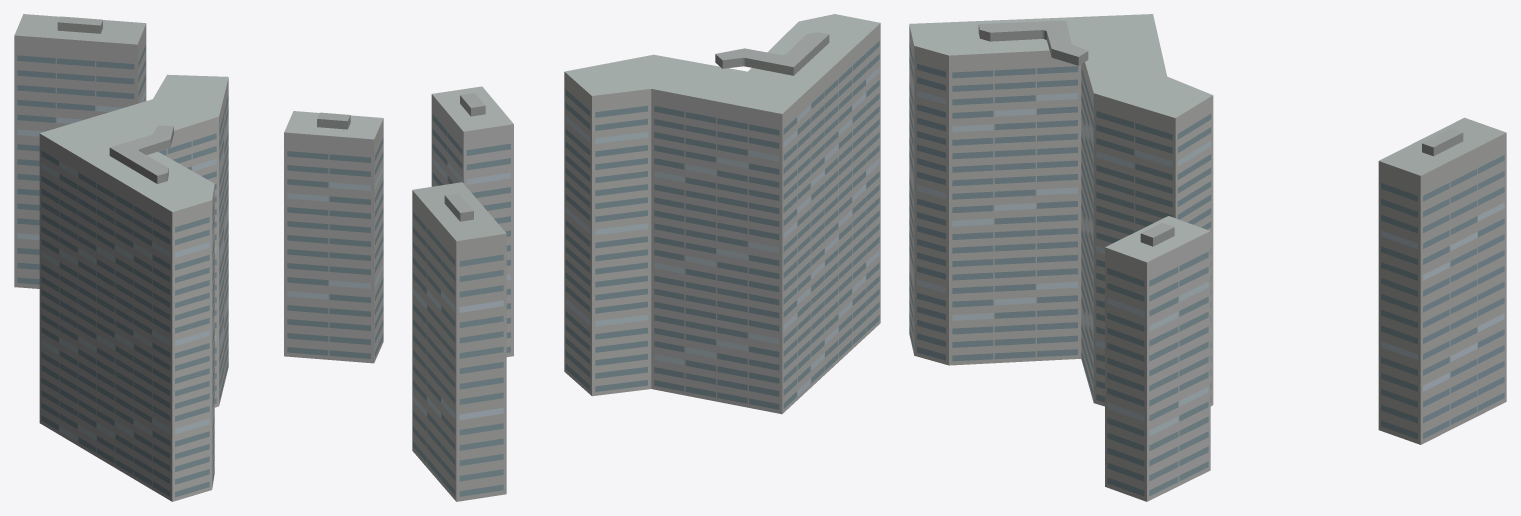
File: apt-a10023955.glb
The picture shows the model from 3 angles, left to right: view 1: azimuth 30°, elevation 25°; view 2: azimuth 150°, elevation 25°; view 3: azimuth 270°, elevation 25°; orthographic projection. The views are drawn at different scales.
Parts seen in each view (by area): view 1: apt-a10023955; view 2: apt-a10023955; view 3: apt-a10023955.
Boxes of the visible parts, x1,y1,x2,y2 form: apt-a10023955: (14, 14, 383, 501); apt-a10023955: (412, 14, 880, 501); apt-a10023955: (909, 14, 1506, 501).
Bounding box in the file's own units: 103 × 86 × 146.
